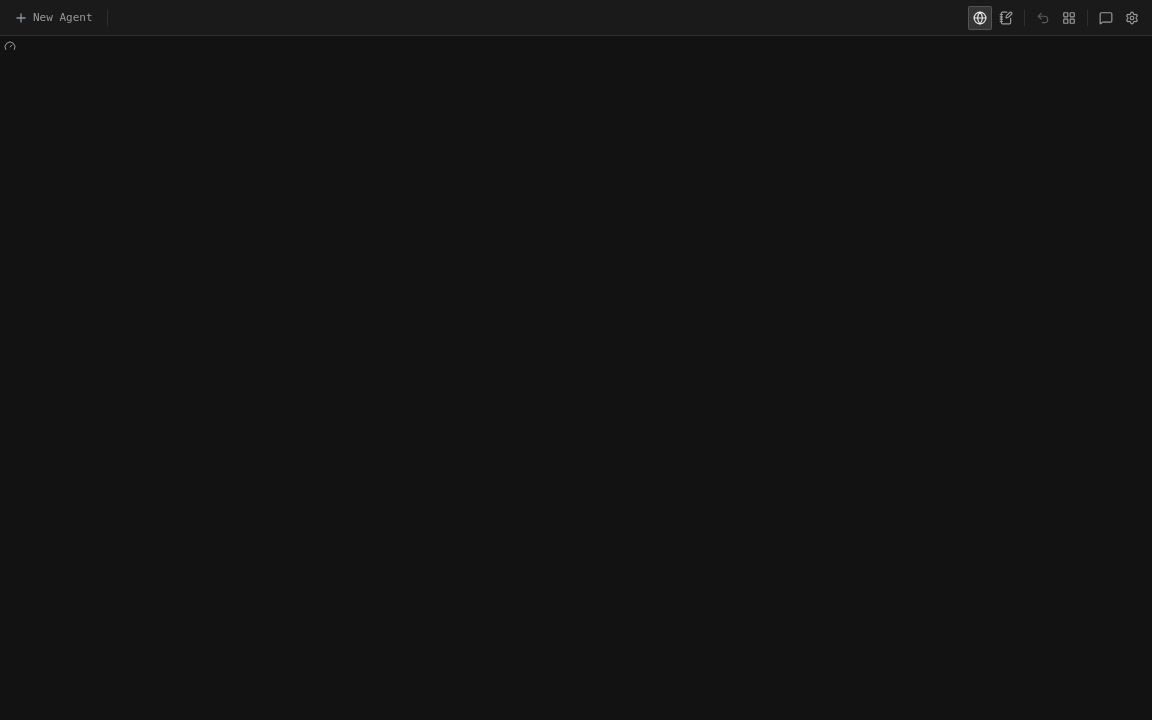
Header overlay interactions › shows provider warnings without hiding successful conversations
The image size is (1152, 720).
Step 1. Click the button named "Chat history" → click(1106, 18), box [1094, 6, 1118, 30]
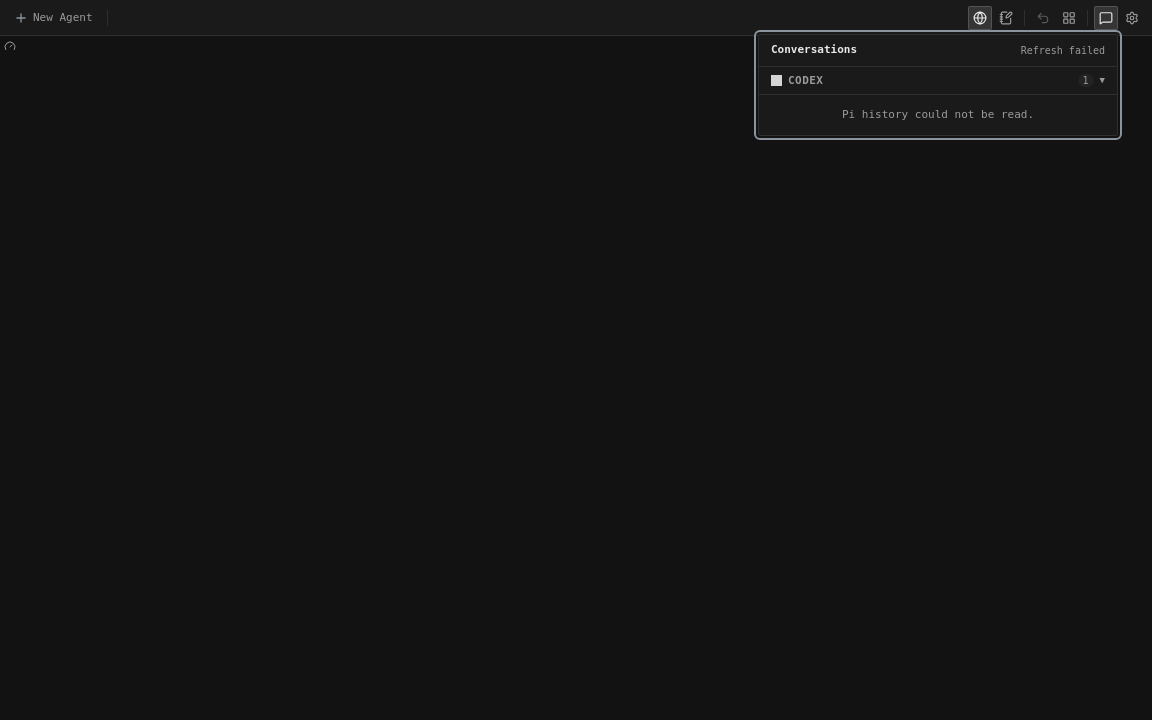
expect the text "Pi history could not be read." is shown: met, box [842, 108, 1034, 120]
Step 2. Click the button "Codex 1 ▼" → click(806, 80), box [759, 66, 1117, 94]
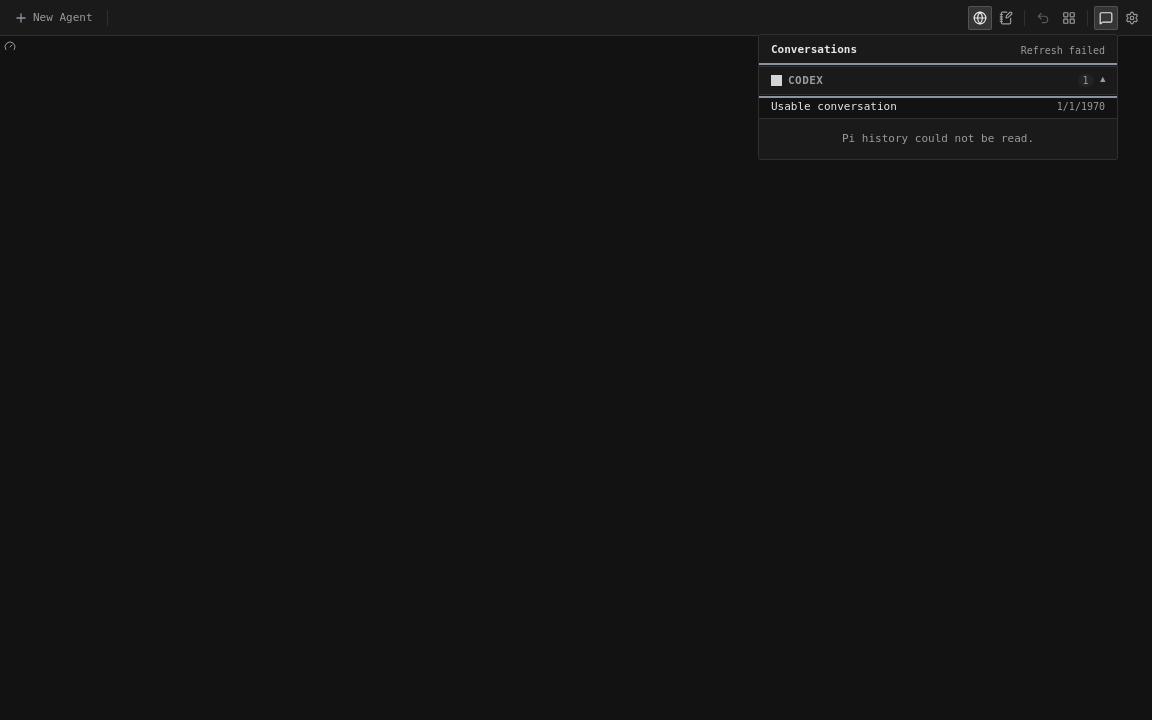
expect the text "Usable conversation" is shown: met, box [771, 100, 897, 112]
